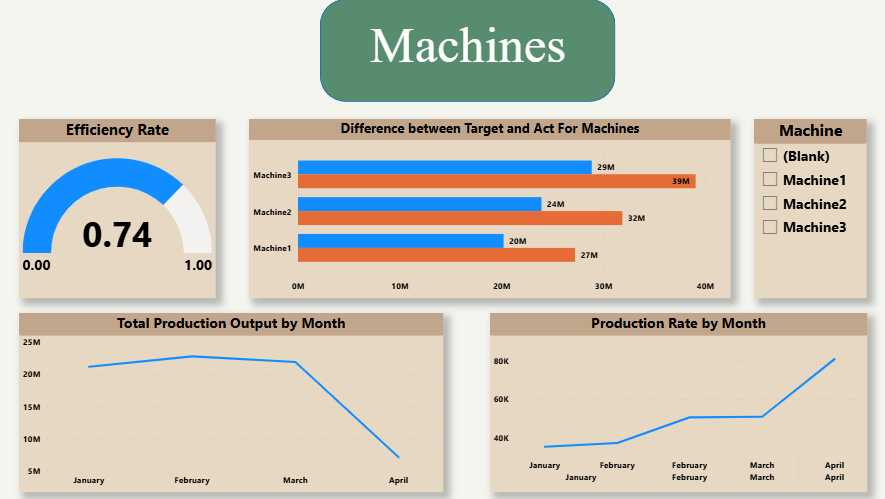

The dashboard page shown, as its layout file describes it:
{"tool":"powerbi","page":{"name":"Production(2)","canvas":[1280,720],"ordinal":13},"visuals":[{"type":"shape","box":[462.2,0,421.9,146.9],"z":0,"group":"g1"},{"type":"lineChart","fields":{"Category":["Production.Start Date time.Variation.Date Hierarchy.Month","Production.End Date time.Variation.Date Hierarchy.Month"],"Y":["ProMeasures.Total Production Output"]},"box":[33.1,449.3,606.2,256.3],"z":0},{"type":"textbox","box":[486.3,20.2,374.4,106.6],"z":1000,"group":"g1"},{"type":"lineChart","title":"Production Rate by Month","fields":{"Y":["ProMeasures.Production Rate"],"Category":["Production.Start Date time.Variation.Date Hierarchy.Month","Production.End Date time.Variation.Date Hierarchy.Month"]},"box":[705.6,449.3,538.6,256.3],"z":1000},{"type":"gauge","fields":{"Y":["ProMeasures.Efficiency Rate"]},"box":[33.1,171.4,280.8,256.3],"z":2000},{"type":"clusteredBarChart","title":"Difference between Target and Act For Machines","fields":{"Y":["Sum(Production.Act Quantity)","Sum(Production.Target Quantity)"],"Category":["Production.Machine Name"]},"box":[361.4,171.4,688.3,256.3],"z":3000},{"type":"slicer","title":"Machine ","fields":{"Values":["Production.Machine Name"]},"box":[1082.9,171.4,161.3,256.3],"z":4000},{"type":"group","id":"g1","title":"Group 1","box":[462.2,0,421.9,146.9],"z":5000}]}

Visuals, with their boxes in screenshot pixels (x1, y1, x2, y2), scaled from the page's 1280x720 canvas onto the 885x499 screenshot:
shape: [left=320, top=0, right=611, bottom=102]
lineChart - Production.Start Date time.Variation.Date Hierarchy.Month x Production.End Date time.Variation.Date Hierarchy.Month: [left=23, top=311, right=442, bottom=489]
textbox: [left=336, top=14, right=595, bottom=88]
"Production Rate by Month" lineChart: [left=488, top=311, right=860, bottom=489]
gauge - ProMeasures.Efficiency Rate: [left=23, top=119, right=217, bottom=296]
"Difference between Target and Act For Machines" clusteredBarChart: [left=250, top=119, right=726, bottom=296]
"Machine " slicer: [left=749, top=119, right=860, bottom=296]
"Group 1" group: [left=320, top=0, right=611, bottom=102]
